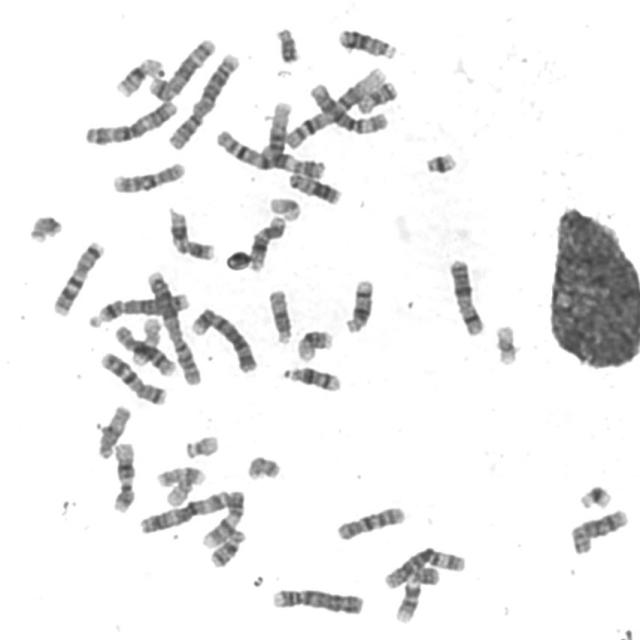A1: (280, 60, 390, 151), (211, 93, 295, 180)
A2: (164, 48, 241, 151), (141, 266, 203, 386)
A3: (80, 94, 180, 147), (134, 485, 234, 535)
B4: (187, 303, 260, 375), (267, 584, 365, 616)
B5: (144, 33, 218, 103), (84, 288, 191, 328)
C10: (332, 501, 408, 542), (108, 157, 187, 195)
C11: (256, 138, 326, 184), (163, 203, 217, 262)
C12: (244, 210, 288, 272), (106, 438, 138, 514)
C6: (306, 78, 391, 135), (380, 542, 468, 590)
C7: (47, 236, 106, 317), (95, 347, 168, 406)
C8: (110, 321, 176, 376), (565, 503, 630, 557)
C9: (197, 485, 247, 549), (390, 561, 440, 625)
D13: (334, 23, 398, 60), (284, 168, 343, 206)
D14: (278, 361, 343, 394), (341, 274, 376, 335)
D15: (92, 400, 132, 460), (263, 284, 294, 345)
E16: (112, 53, 166, 98), (292, 324, 336, 363)
E17: (127, 312, 163, 368), (152, 461, 207, 488)
E18: (351, 76, 400, 115), (206, 524, 247, 569)
F19: (490, 320, 520, 368), (265, 191, 303, 222)
F20: (24, 209, 64, 243), (242, 450, 283, 482)
G21: (574, 479, 614, 511), (420, 147, 460, 176)
G22: (180, 430, 220, 460), (161, 473, 195, 507)
X: (444, 254, 486, 338)
Y: (270, 22, 302, 64)
